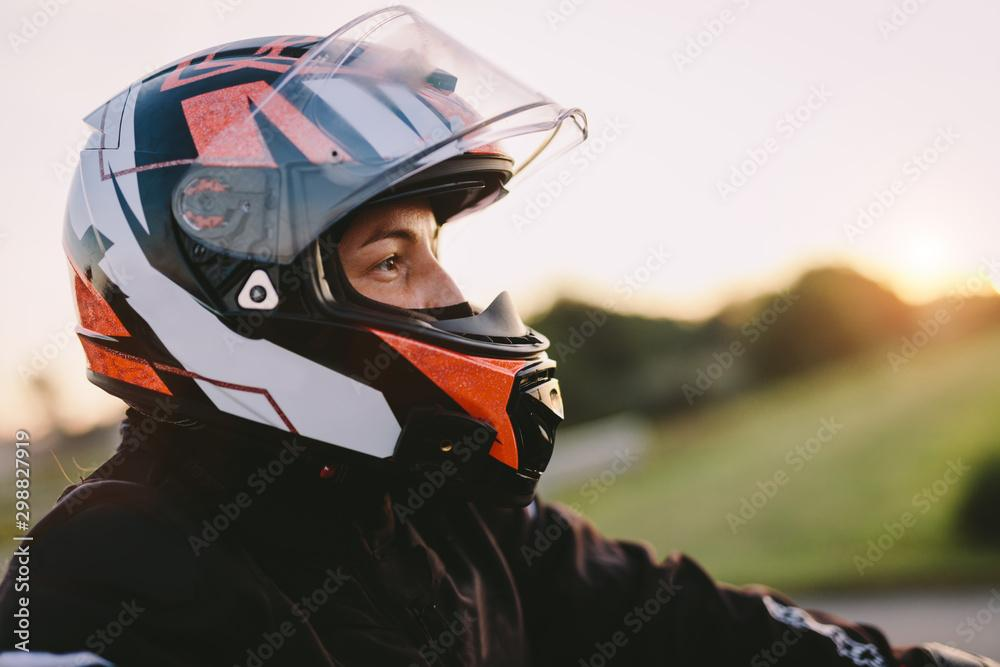helmet: (59, 0, 591, 511)
